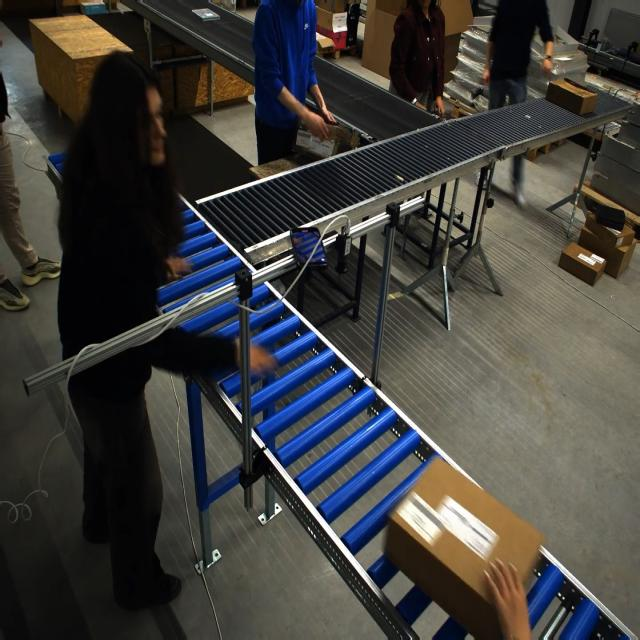box: (384, 459, 544, 640)
product: (295, 129, 334, 159), (191, 8, 221, 21)
